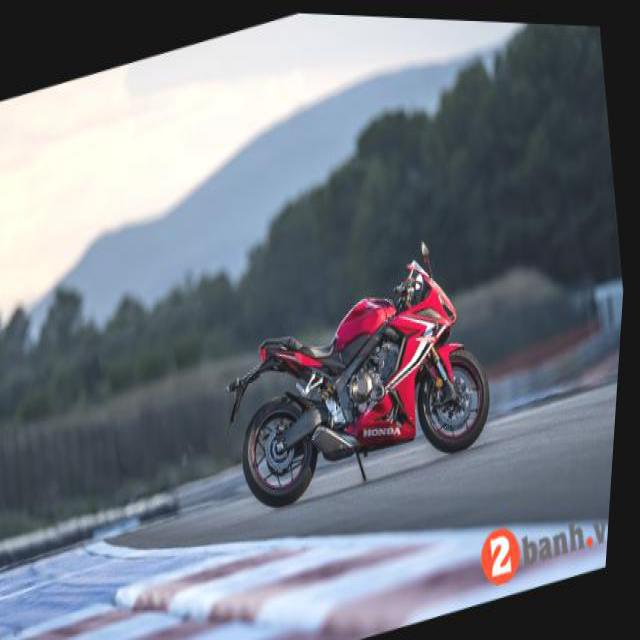CBR650R: (215, 222, 512, 525)
